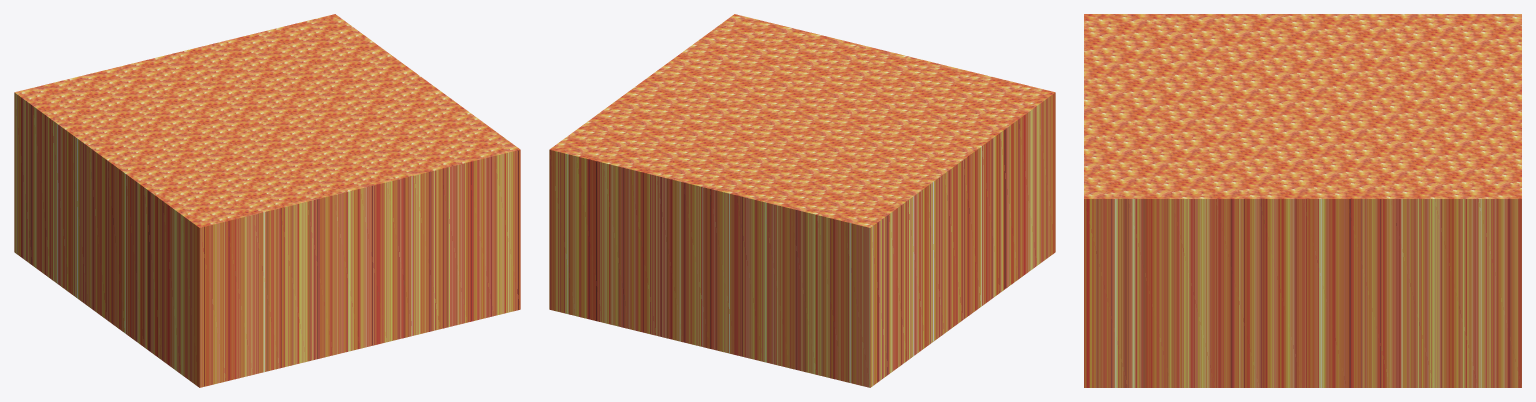
File: SM_ICE_03_01.fbx
3 renders of one model, left to right at view 1: azimuth 30°, elevation 25°; view 2: azimuth 150°, elevation 25°; view 3: azimuth 270°, elevation 25°, orthographic. The views are drawn at different scales.
Visible parts, largest first — view 1: SM_ICE_03_01; view 2: SM_ICE_03_01; view 3: SM_ICE_03_01.
Part boxes in pixels (bbox=[...]): SM_ICE_03_01: bbox=[14, 14, 520, 387]; SM_ICE_03_01: bbox=[549, 14, 1055, 387]; SM_ICE_03_01: bbox=[1084, 14, 1521, 387].
Bounding box in the file's own units: 19278 × 9181 × 19278.
